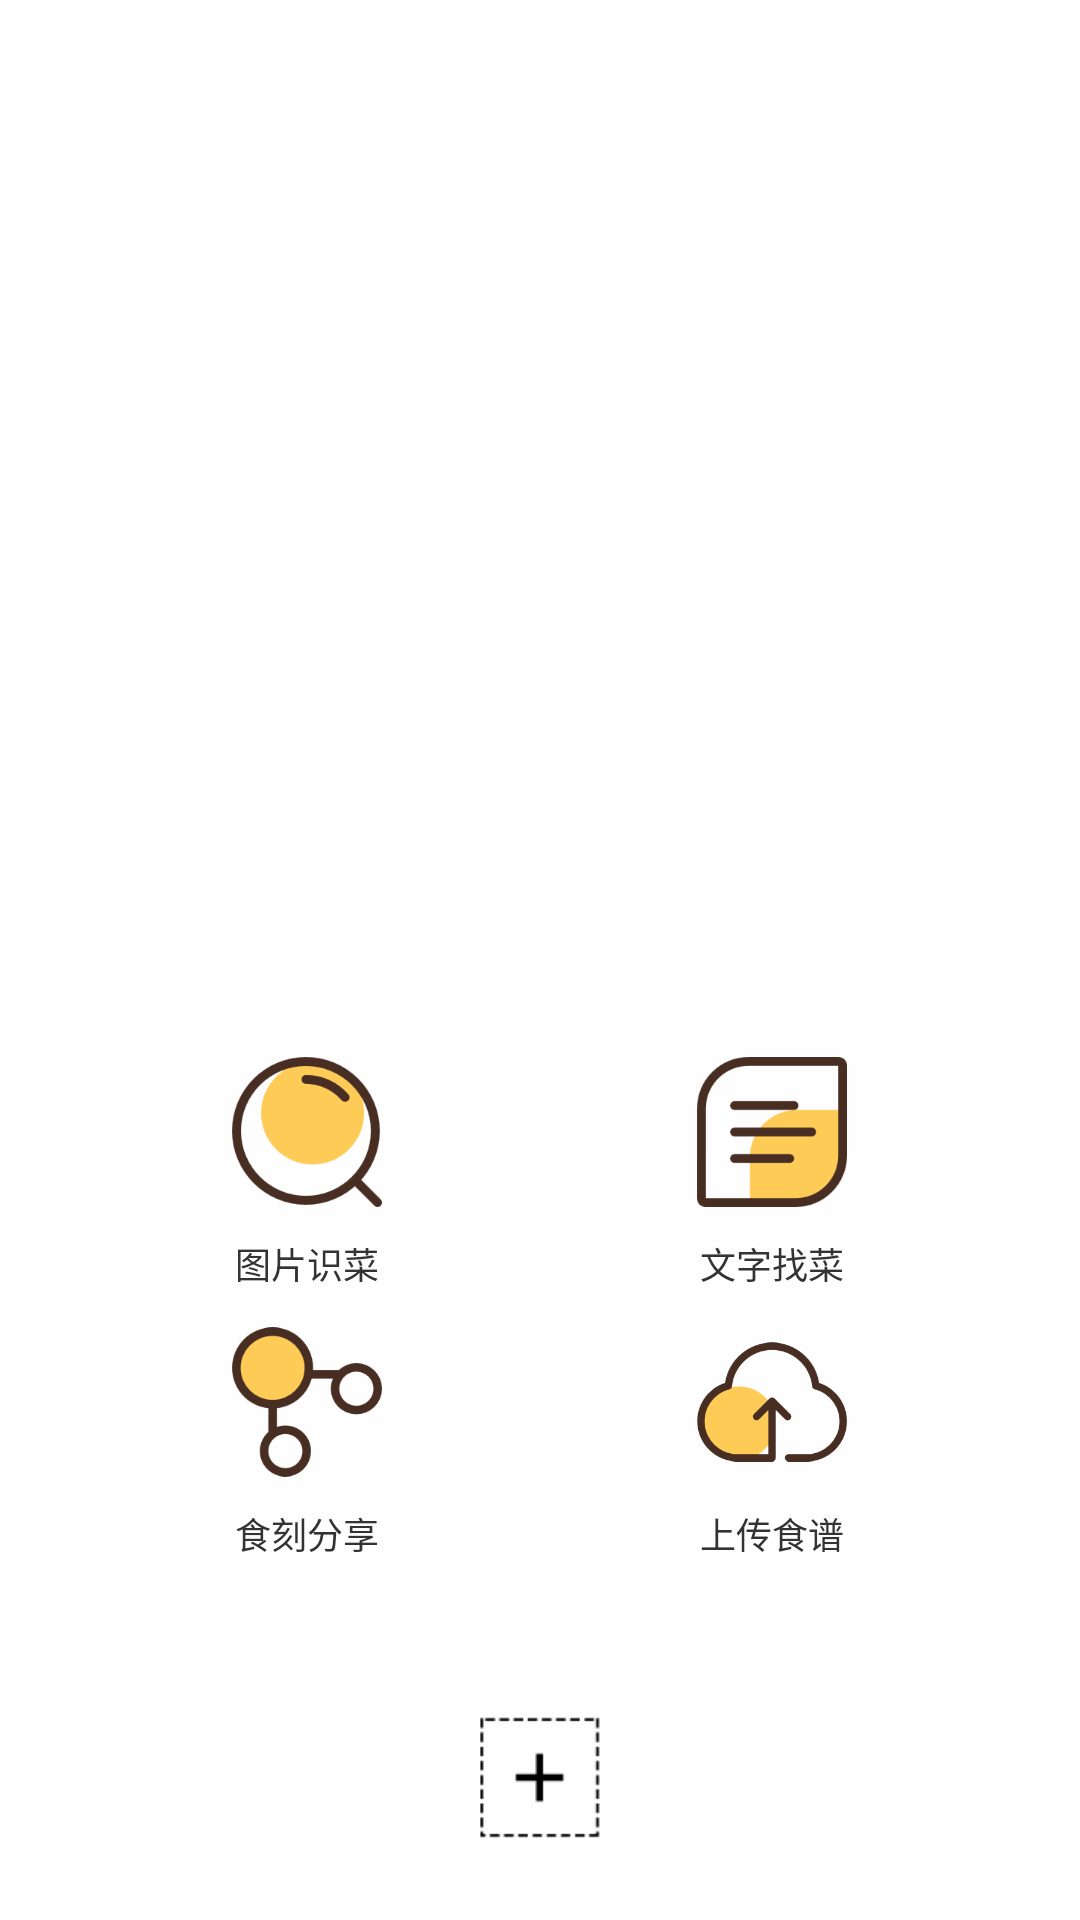

Screen size 1080x1920. Icon name, then its center in pixels as (x=x, y=y):
add: (x=540, y=1777)
